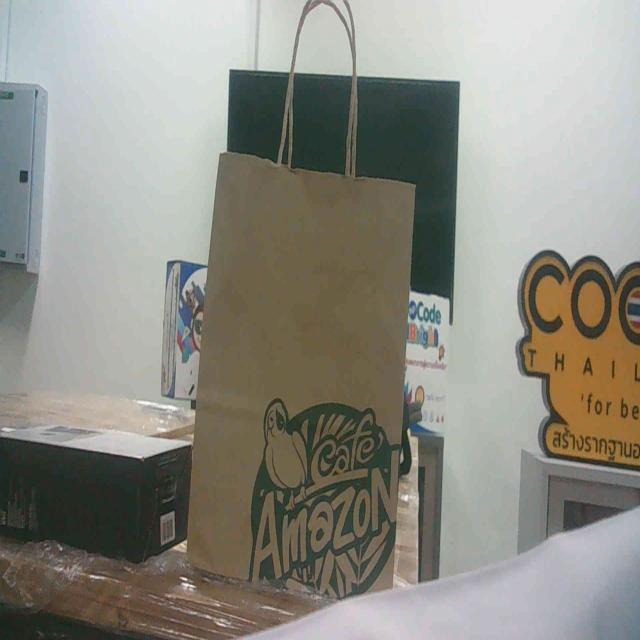bag: (185, 139, 422, 640)
